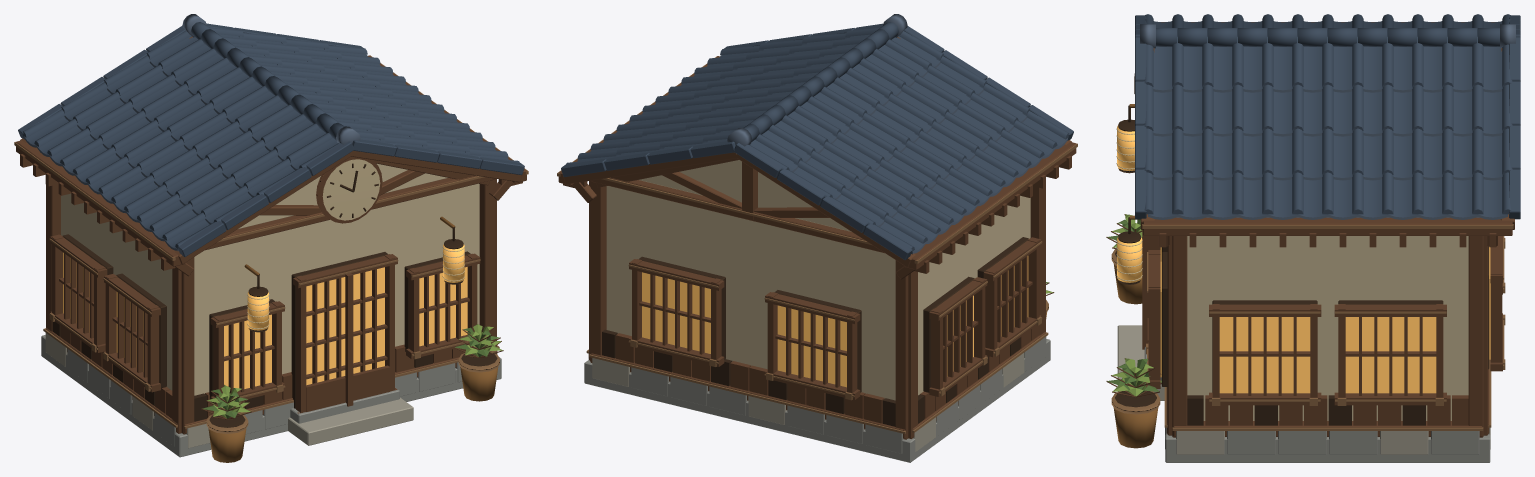
The picture shows the model from 3 angles, left to right: view 1: azimuth 30°, elevation 25°; view 2: azimuth 150°, elevation 25°; view 3: azimuth 270°, elevation 25°; orthographic projection. The views are drawn at different scales.
Parts seen in each view (by area): view 1: compact_rush_station_geometry, compact_rush_station_geometry ceramic; view 2: compact_rush_station_geometry, compact_rush_station_geometry ceramic; view 3: compact_rush_station_geometry, compact_rush_station_geometry ceramic.
Boxes of the visible parts, x1,y1,x2,y2 form: compact_rush_station_geometry: (14,36,528,462); compact_rush_station_geometry ceramic: (18,14,524,256); compact_rush_station_geometry: (557,37,1077,462); compact_rush_station_geometry ceramic: (561,14,1073,259); compact_rush_station_geometry: (1106,22,1514,462); compact_rush_station_geometry ceramic: (1135,14,1520,219).
Bounding box in the file's own units: 1.04 × 0.817 × 0.8874.
